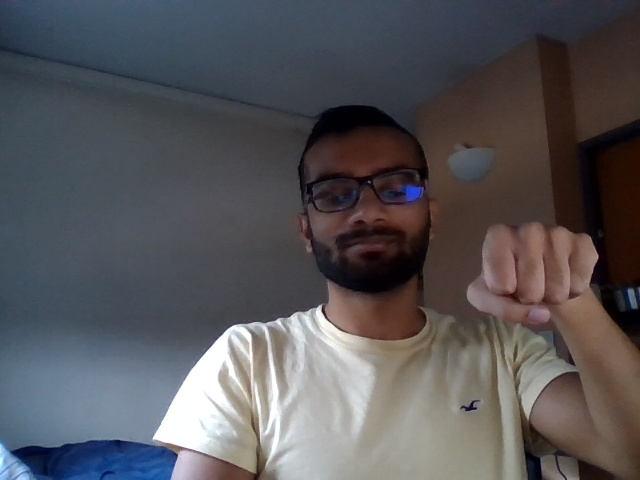Yes: (458, 216, 605, 325)
